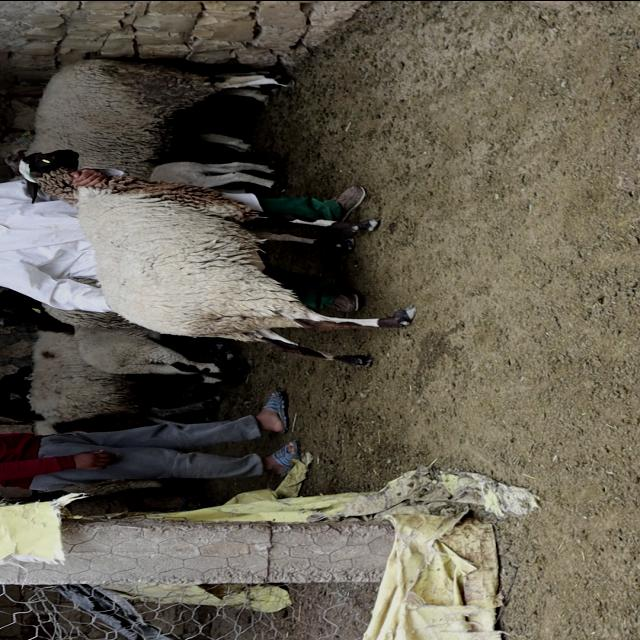Score_4: (19, 149, 415, 364)
